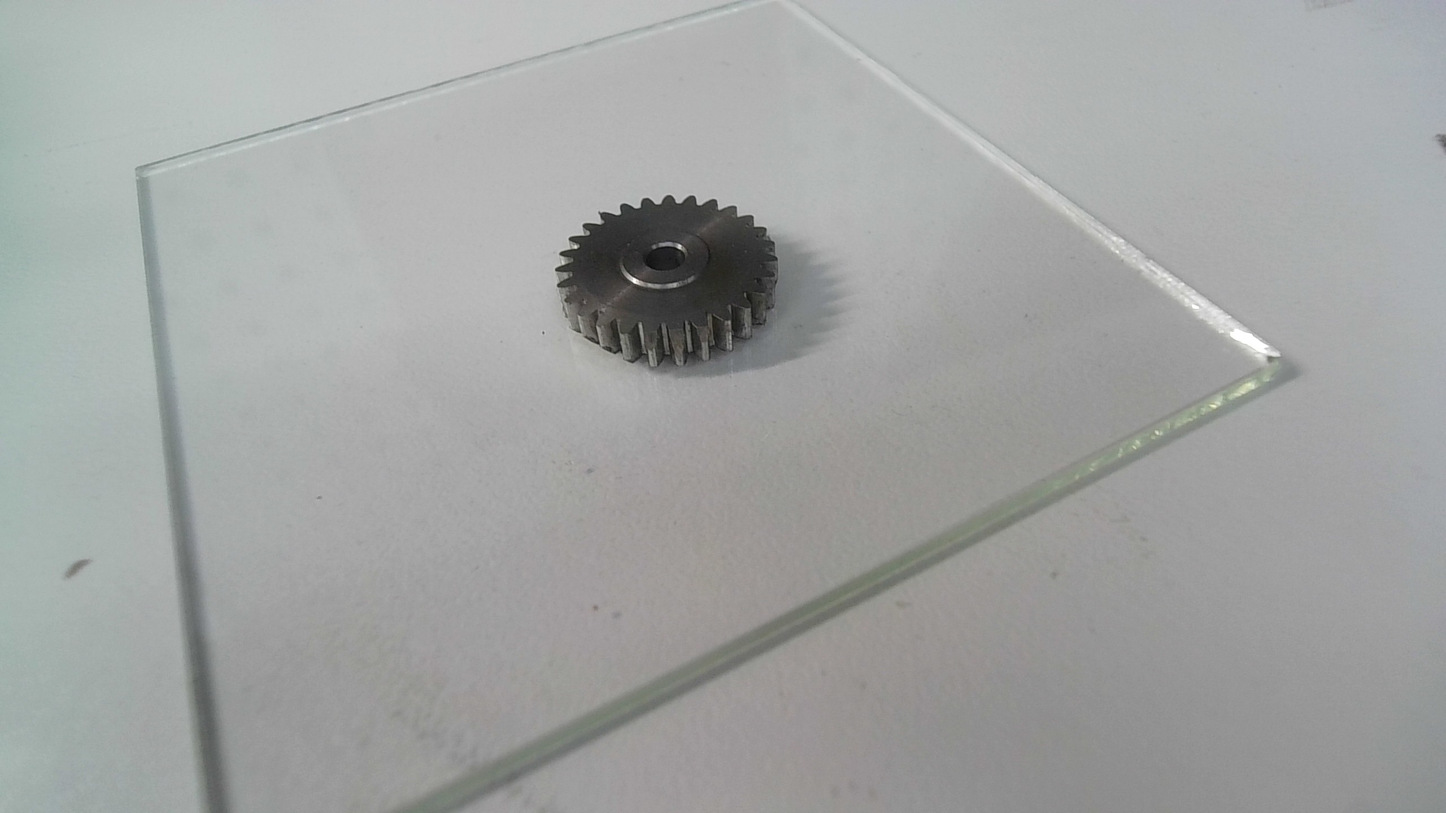gear: (555, 194, 777, 367)
